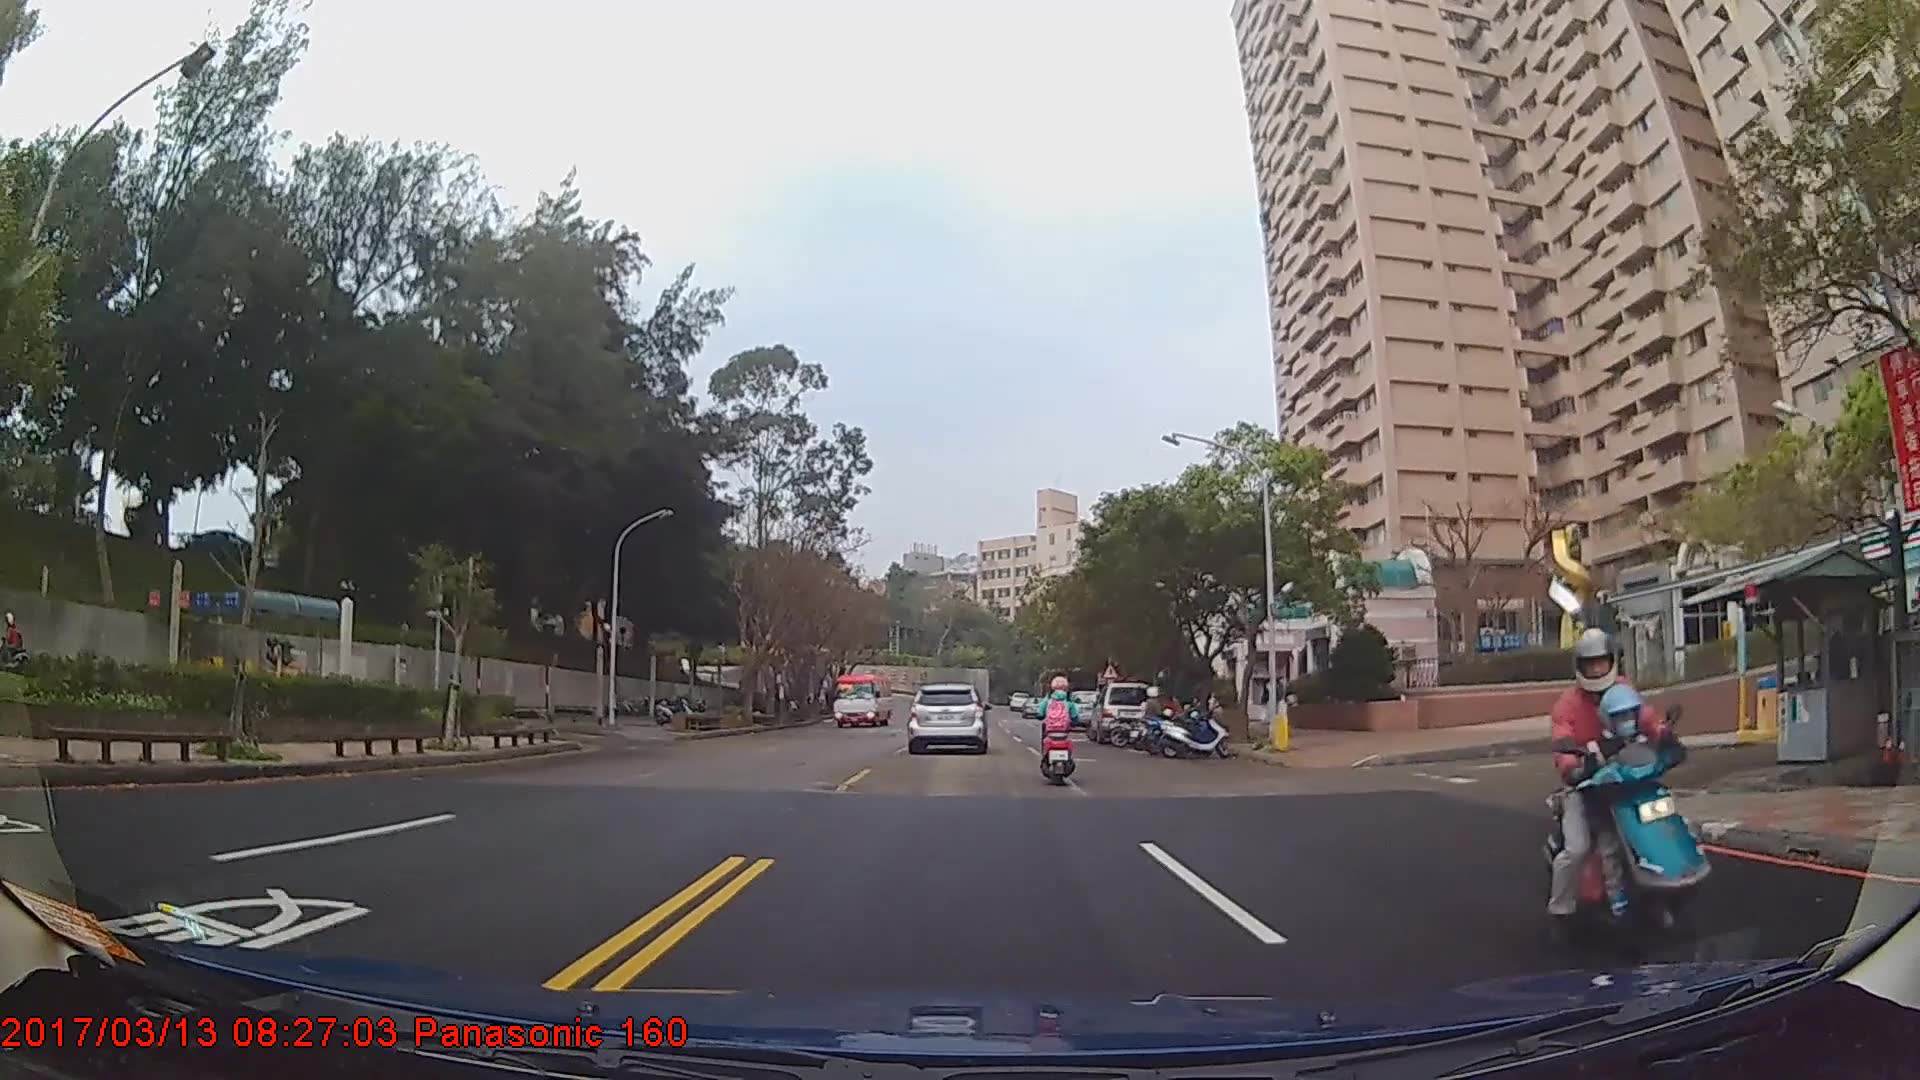rider: (1544, 621, 1712, 952), (1035, 665, 1081, 786), (1130, 686, 1173, 751)
vehicle: (907, 681, 987, 755), (1087, 680, 1151, 742), (830, 670, 892, 726)
